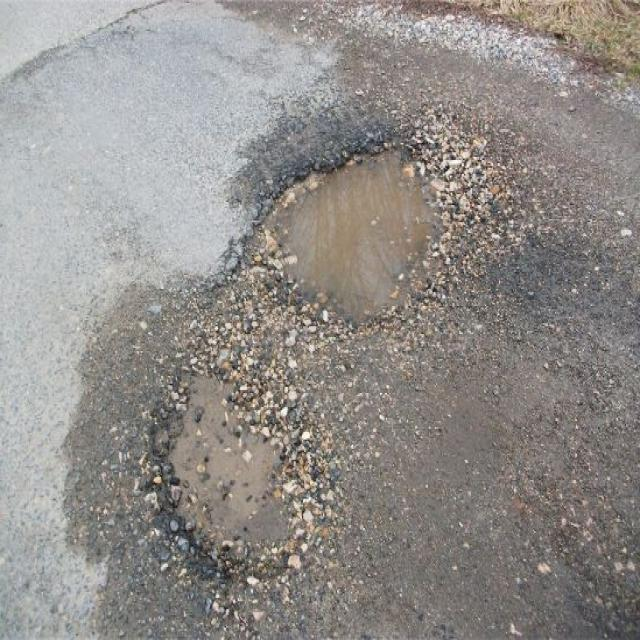Pothole: (145, 346, 327, 581), (252, 130, 457, 334)
